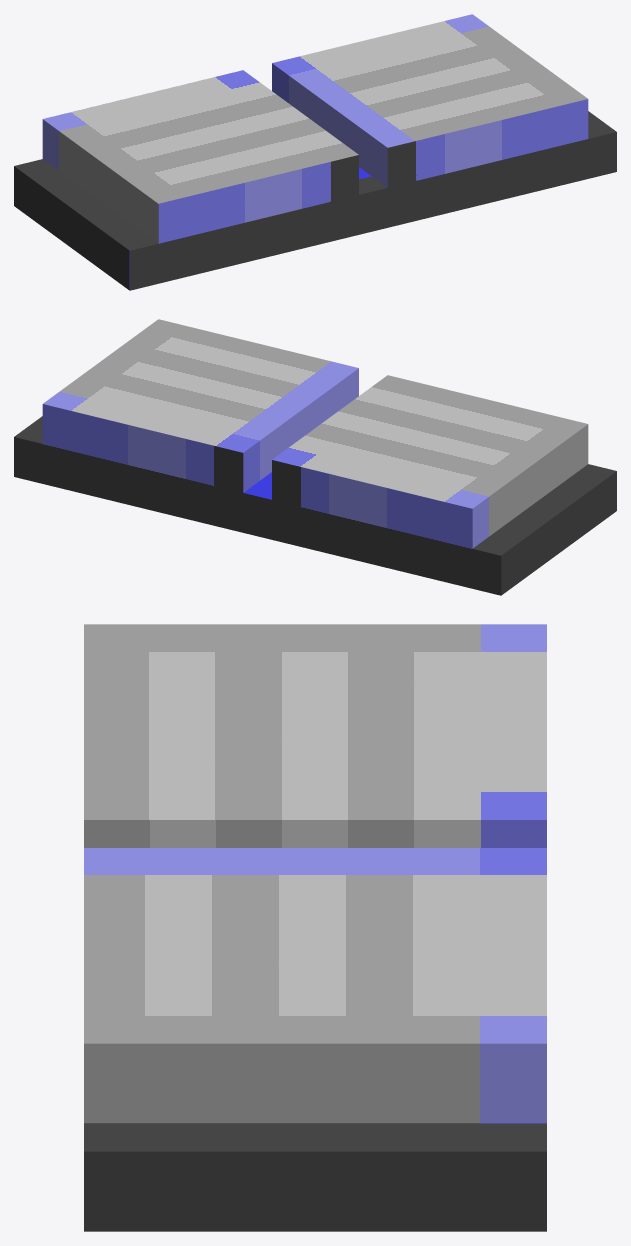
The model's file is book_642x12.obj.
3 renders of one model, top to bottom at view 1: azimuth 30°, elevation 25°; view 2: azimuth 150°, elevation 25°; view 3: azimuth 270°, elevation 25°, orthographic. The views are drawn at different scales.
Parts seen in each view (by area): view 1: Cube.001; view 2: Cube.001; view 3: Cube.001.
Part boxes in pixels (x1,y1,x2,y2): Cube.001: (14,14,616,290); Cube.001: (14,319,616,595); Cube.001: (84,624,546,1231).
Bounding box in the file's own units: 2.12 × 0.3333 × 0.875.
